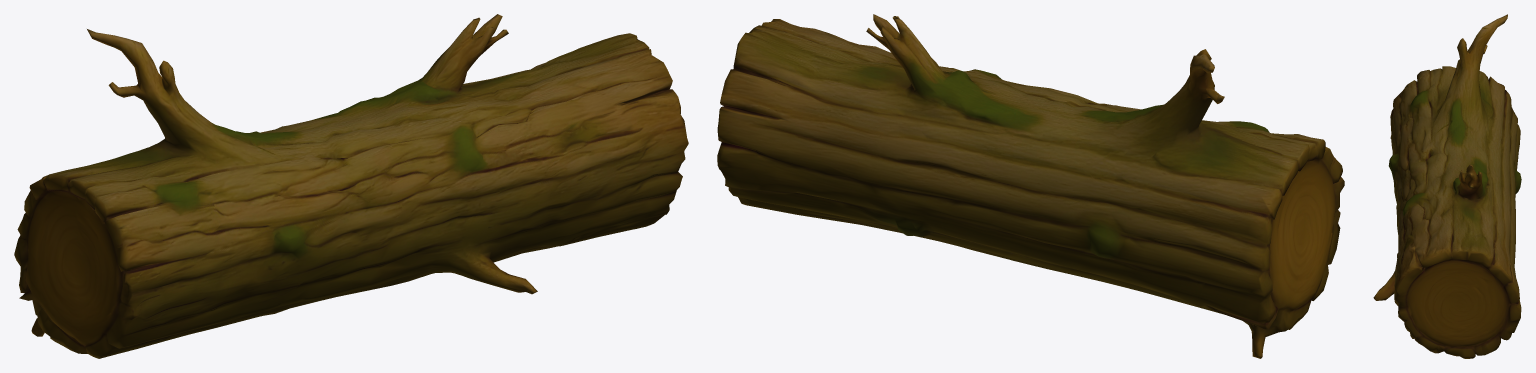
Rendered from log.glb.
3 views of the same model, side by side, from view 1: azimuth 30°, elevation 25°; view 2: azimuth 150°, elevation 25°; view 3: azimuth 270°, elevation 25° (orthographic). The views are drawn at different scales.
Parts seen in each view (by area): view 1: tripo_mesh_2a43d06c-01fd-4048-9596-20b9492f9772; view 2: tripo_mesh_2a43d06c-01fd-4048-9596-20b9492f9772; view 3: tripo_mesh_2a43d06c-01fd-4048-9596-20b9492f9772.
Part boxes in pixels (x1,y1,x2,y2): tripo_mesh_2a43d06c-01fd-4048-9596-20b9492f9772: (14, 14, 688, 358); tripo_mesh_2a43d06c-01fd-4048-9596-20b9492f9772: (717, 14, 1344, 358); tripo_mesh_2a43d06c-01fd-4048-9596-20b9492f9772: (1373, 14, 1521, 358).
Size of the model in its own units: 1 by 0.4814 by 0.3394.
1 material, 1 textured.
